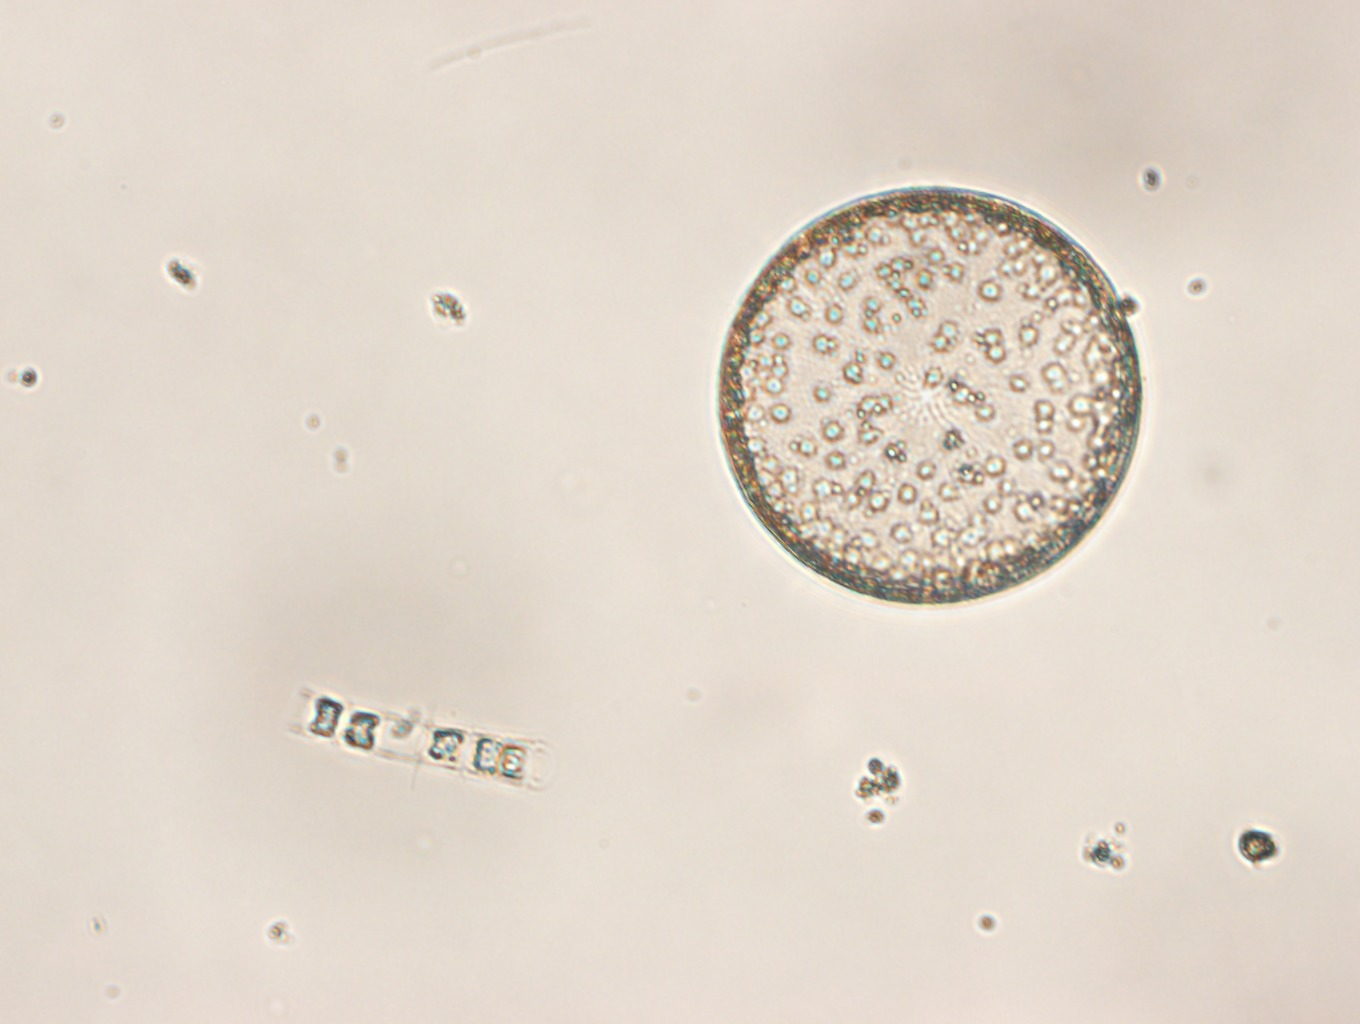chaetoceros: (285, 685, 549, 791)
coscinodiscus: (719, 184, 1143, 602)
